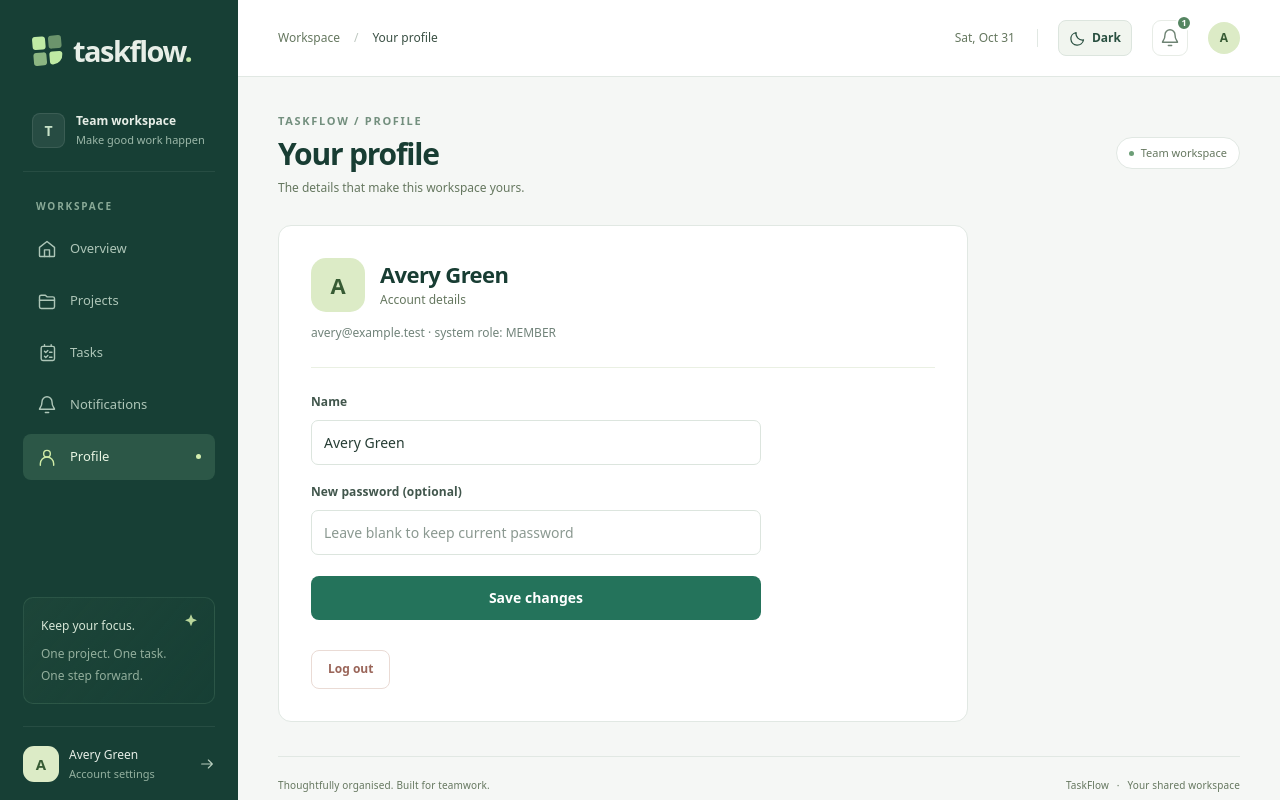
UI-only workspace navigation › keeps profile saving and system-role information
This screenshot has width=1280, height=800.
expect the text "avery@example.test · system role: MEMBER" is shown: met, box [311, 324, 935, 368]
Replace the text in the field labelled "Name" with "Updated Avery" at coordinates (536, 442), box [311, 420, 761, 465]
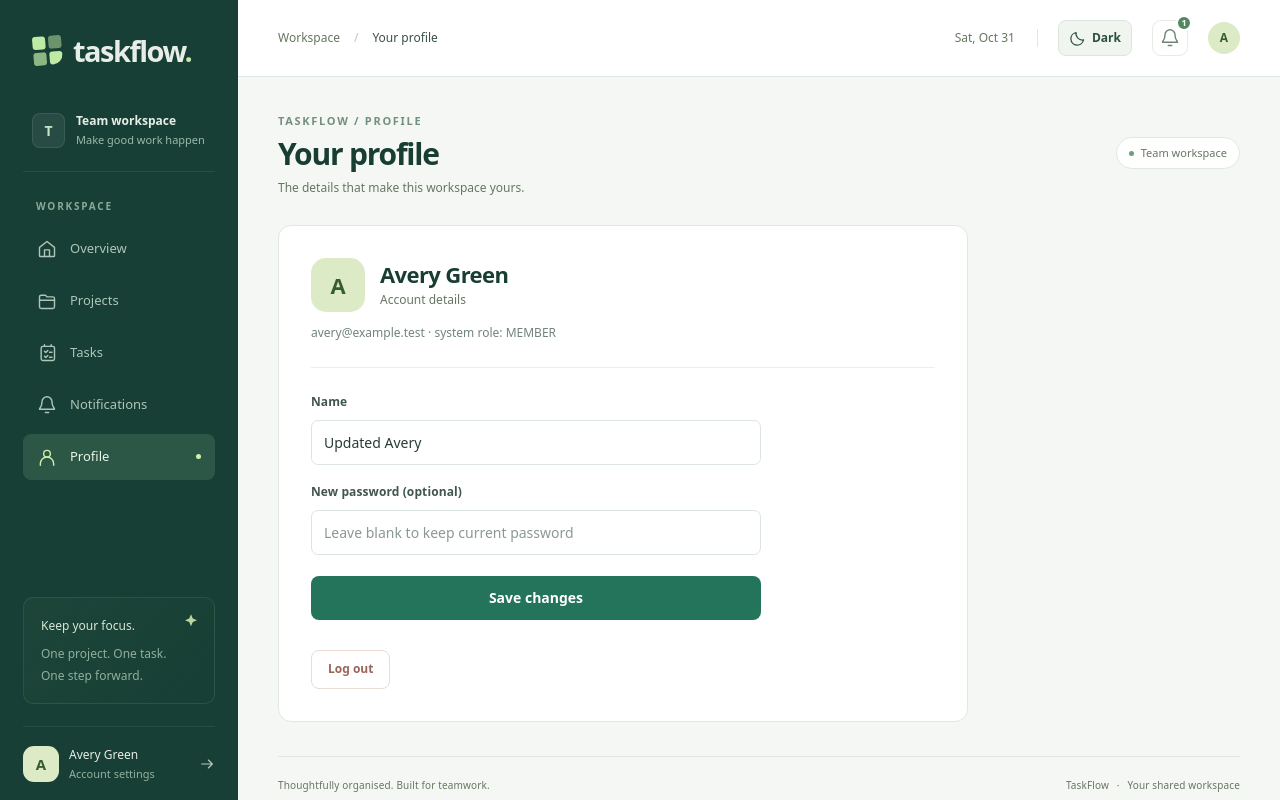
Click the button "Save changes" at coordinates (536, 598), box [311, 576, 761, 620]
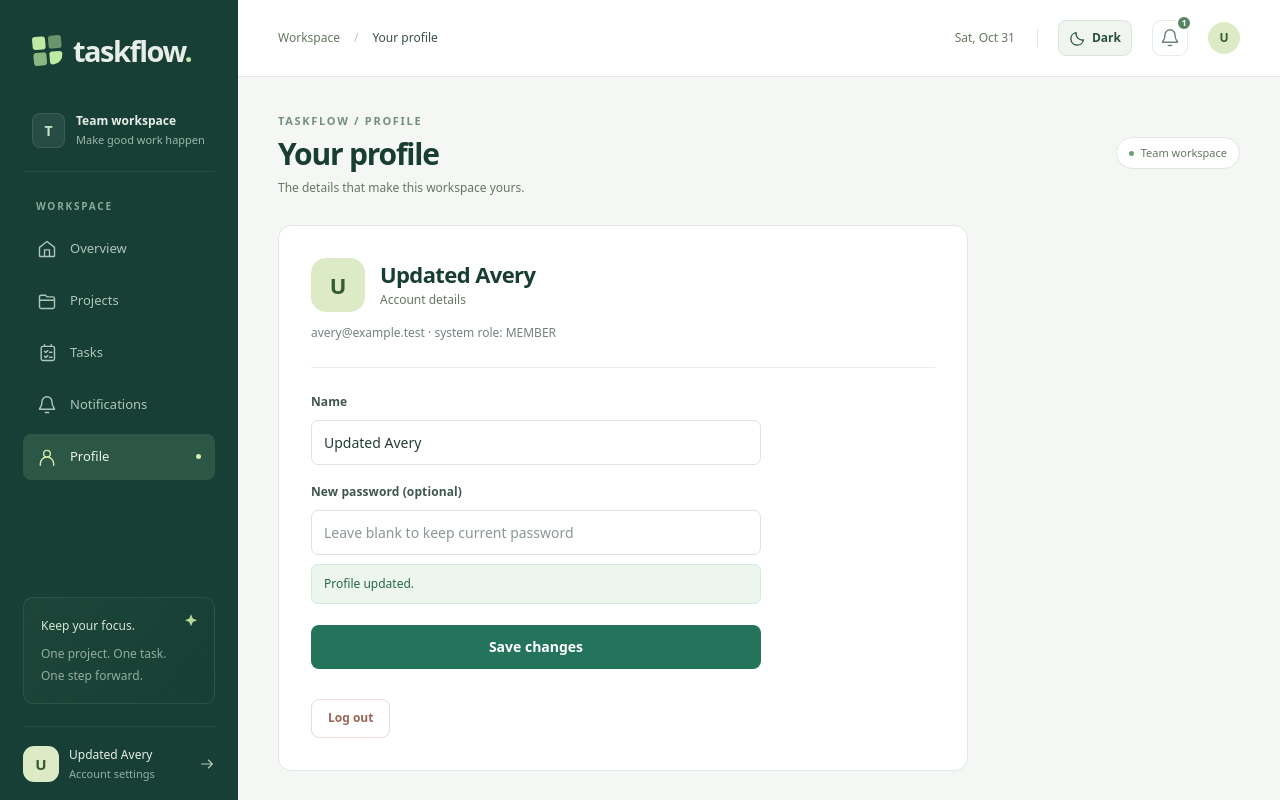
expect the text "Profile updated." is shown: met, box [311, 564, 761, 604]
